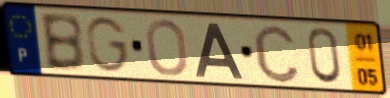0: (306, 26, 343, 86)
A: (193, 21, 246, 81)
B: (37, 11, 88, 74)
C: (250, 22, 303, 85)
G: (84, 15, 132, 75)
O: (143, 17, 190, 78)
